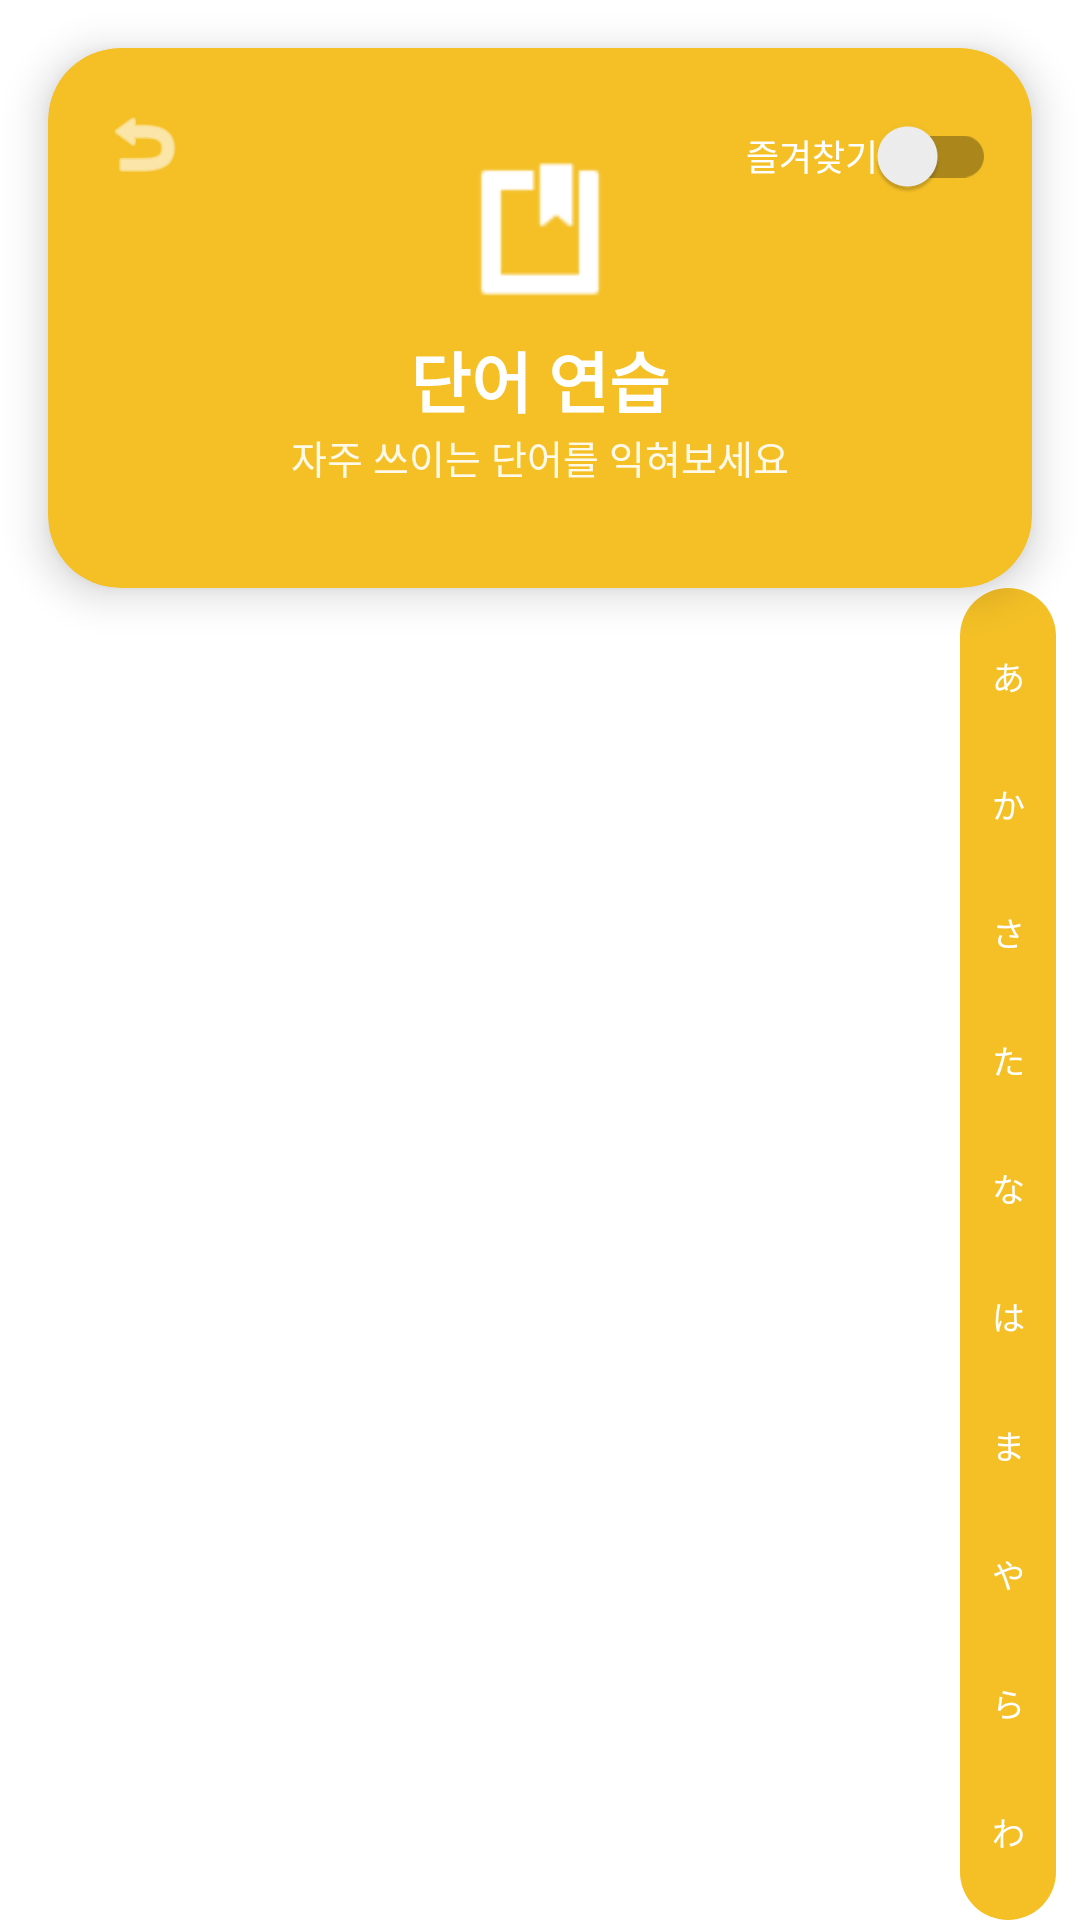

Locate icon controls on the screen. Image size 1080px x 1920px, boxes as (x1, y1, x2, y2).
뒤로가기: (115, 117, 175, 172)
